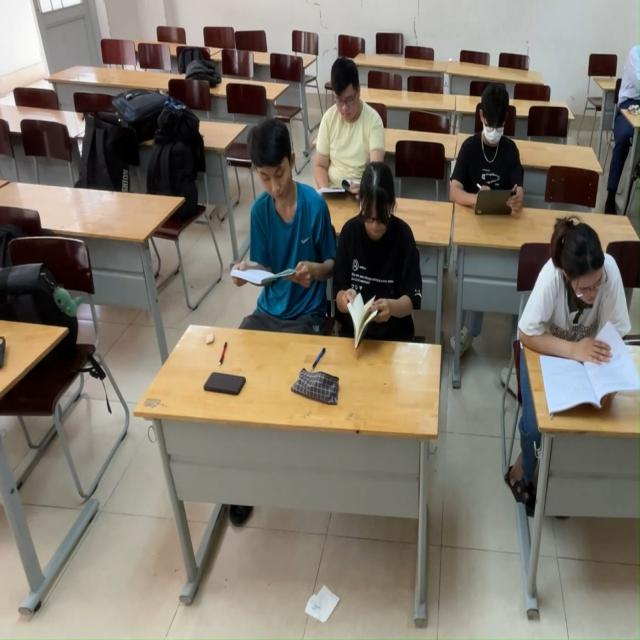read: (509, 214, 640, 423), (229, 115, 332, 339), (331, 159, 428, 359), (446, 84, 536, 233), (311, 56, 389, 200)
